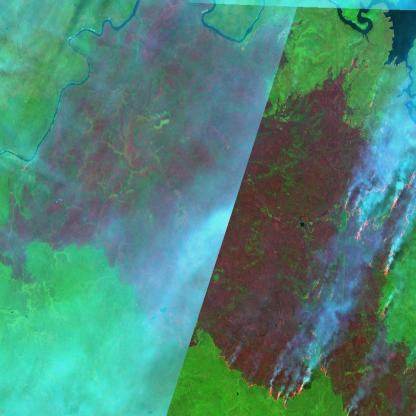fire: (343, 54, 413, 321), (218, 343, 330, 413)
